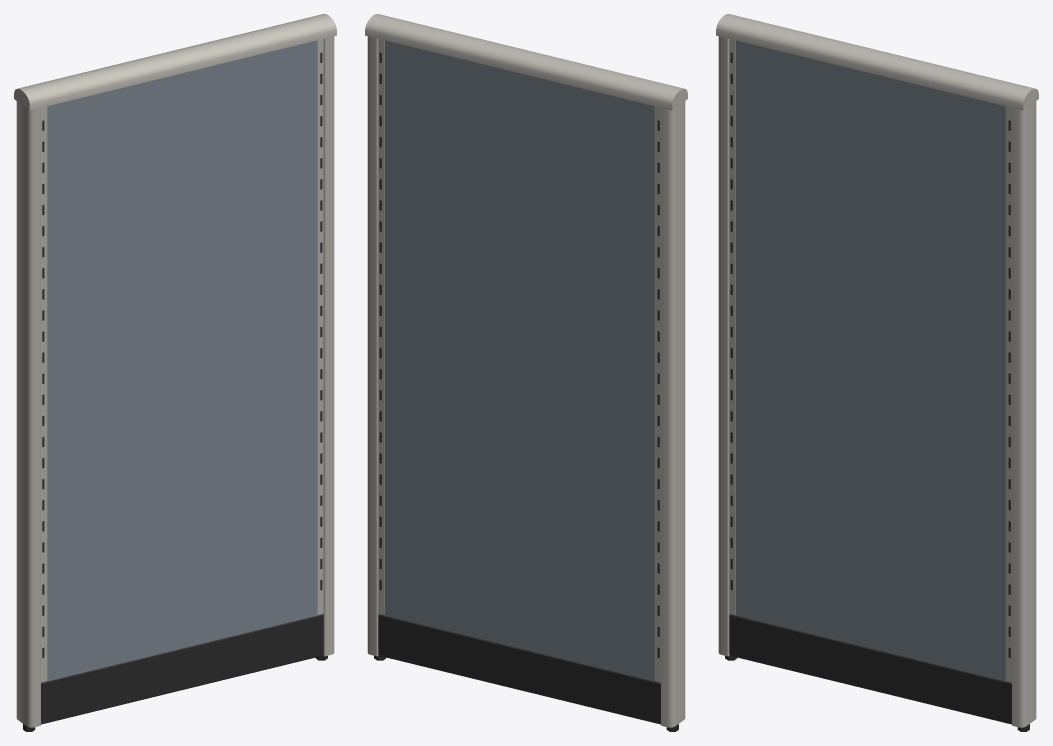
The model's file is Kit_CubiclePanelShort.fbx.
3 renders of one model, left to right at view 1: azimuth 30°, elevation 25°; view 2: azimuth 150°, elevation 25°; view 3: azimuth 330°, elevation 25°, orthographic.
Parts seen in each view (by area): view 1: Kit_CubiclePanelShort_LOD0; view 2: Kit_CubiclePanelShort_LOD0; view 3: Kit_CubiclePanelShort_LOD0.
Boxes of the visible parts, x1,y1,x2,y2 form: Kit_CubiclePanelShort_LOD0: [14, 14, 336, 731]; Kit_CubiclePanelShort_LOD0: [365, 14, 687, 731]; Kit_CubiclePanelShort_LOD0: [716, 14, 1038, 731].
Size of what is drawn, in the model's own units: 0.762 by 1.52 by 0.067.
